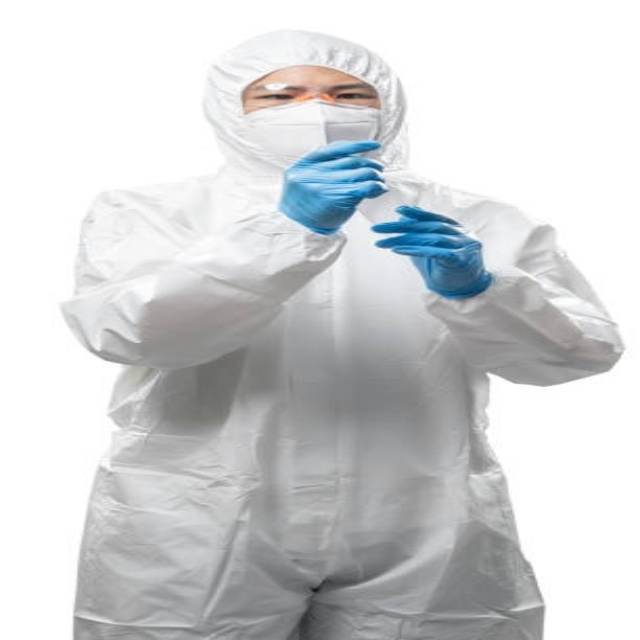Gafas: (245, 83, 379, 110)
Guantes: (370, 205, 493, 299), (277, 140, 387, 237)
Mascara: (244, 100, 383, 162)
